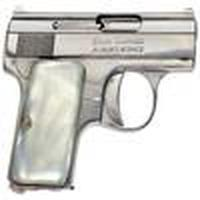gun: (2, 3, 199, 190)
